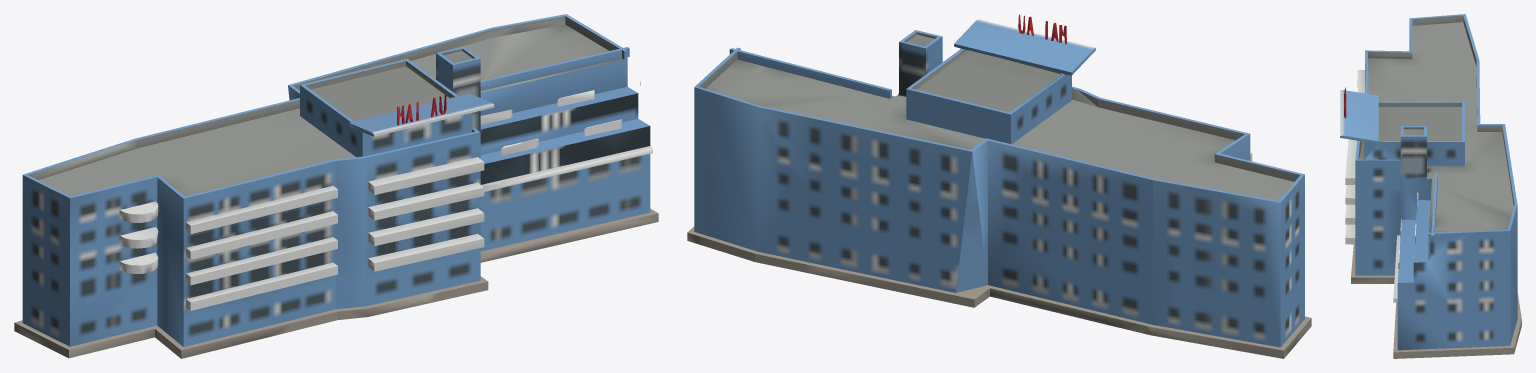
File: khach_san_hai_au.far.glb
3 views of the same model, side by side, from view 1: azimuth 30°, elevation 25°; view 2: azimuth 150°, elevation 25°; view 3: azimuth 270°, elevation 25° (orthographic). The views are drawn at different scales.
Visible parts, largest first — view 1: khach_san_hai_au; view 2: khach_san_hai_au; view 3: khach_san_hai_au.
Part boxes in pixels (x1,y1,x2,y2): khach_san_hai_au: (14, 14, 658, 358); khach_san_hai_au: (687, 14, 1311, 358); khach_san_hai_au: (1340, 14, 1521, 358).
Size of the model in its own units: 73.06 by 24.53 by 24.9.
Materials: 3 (3 with a texture image).
